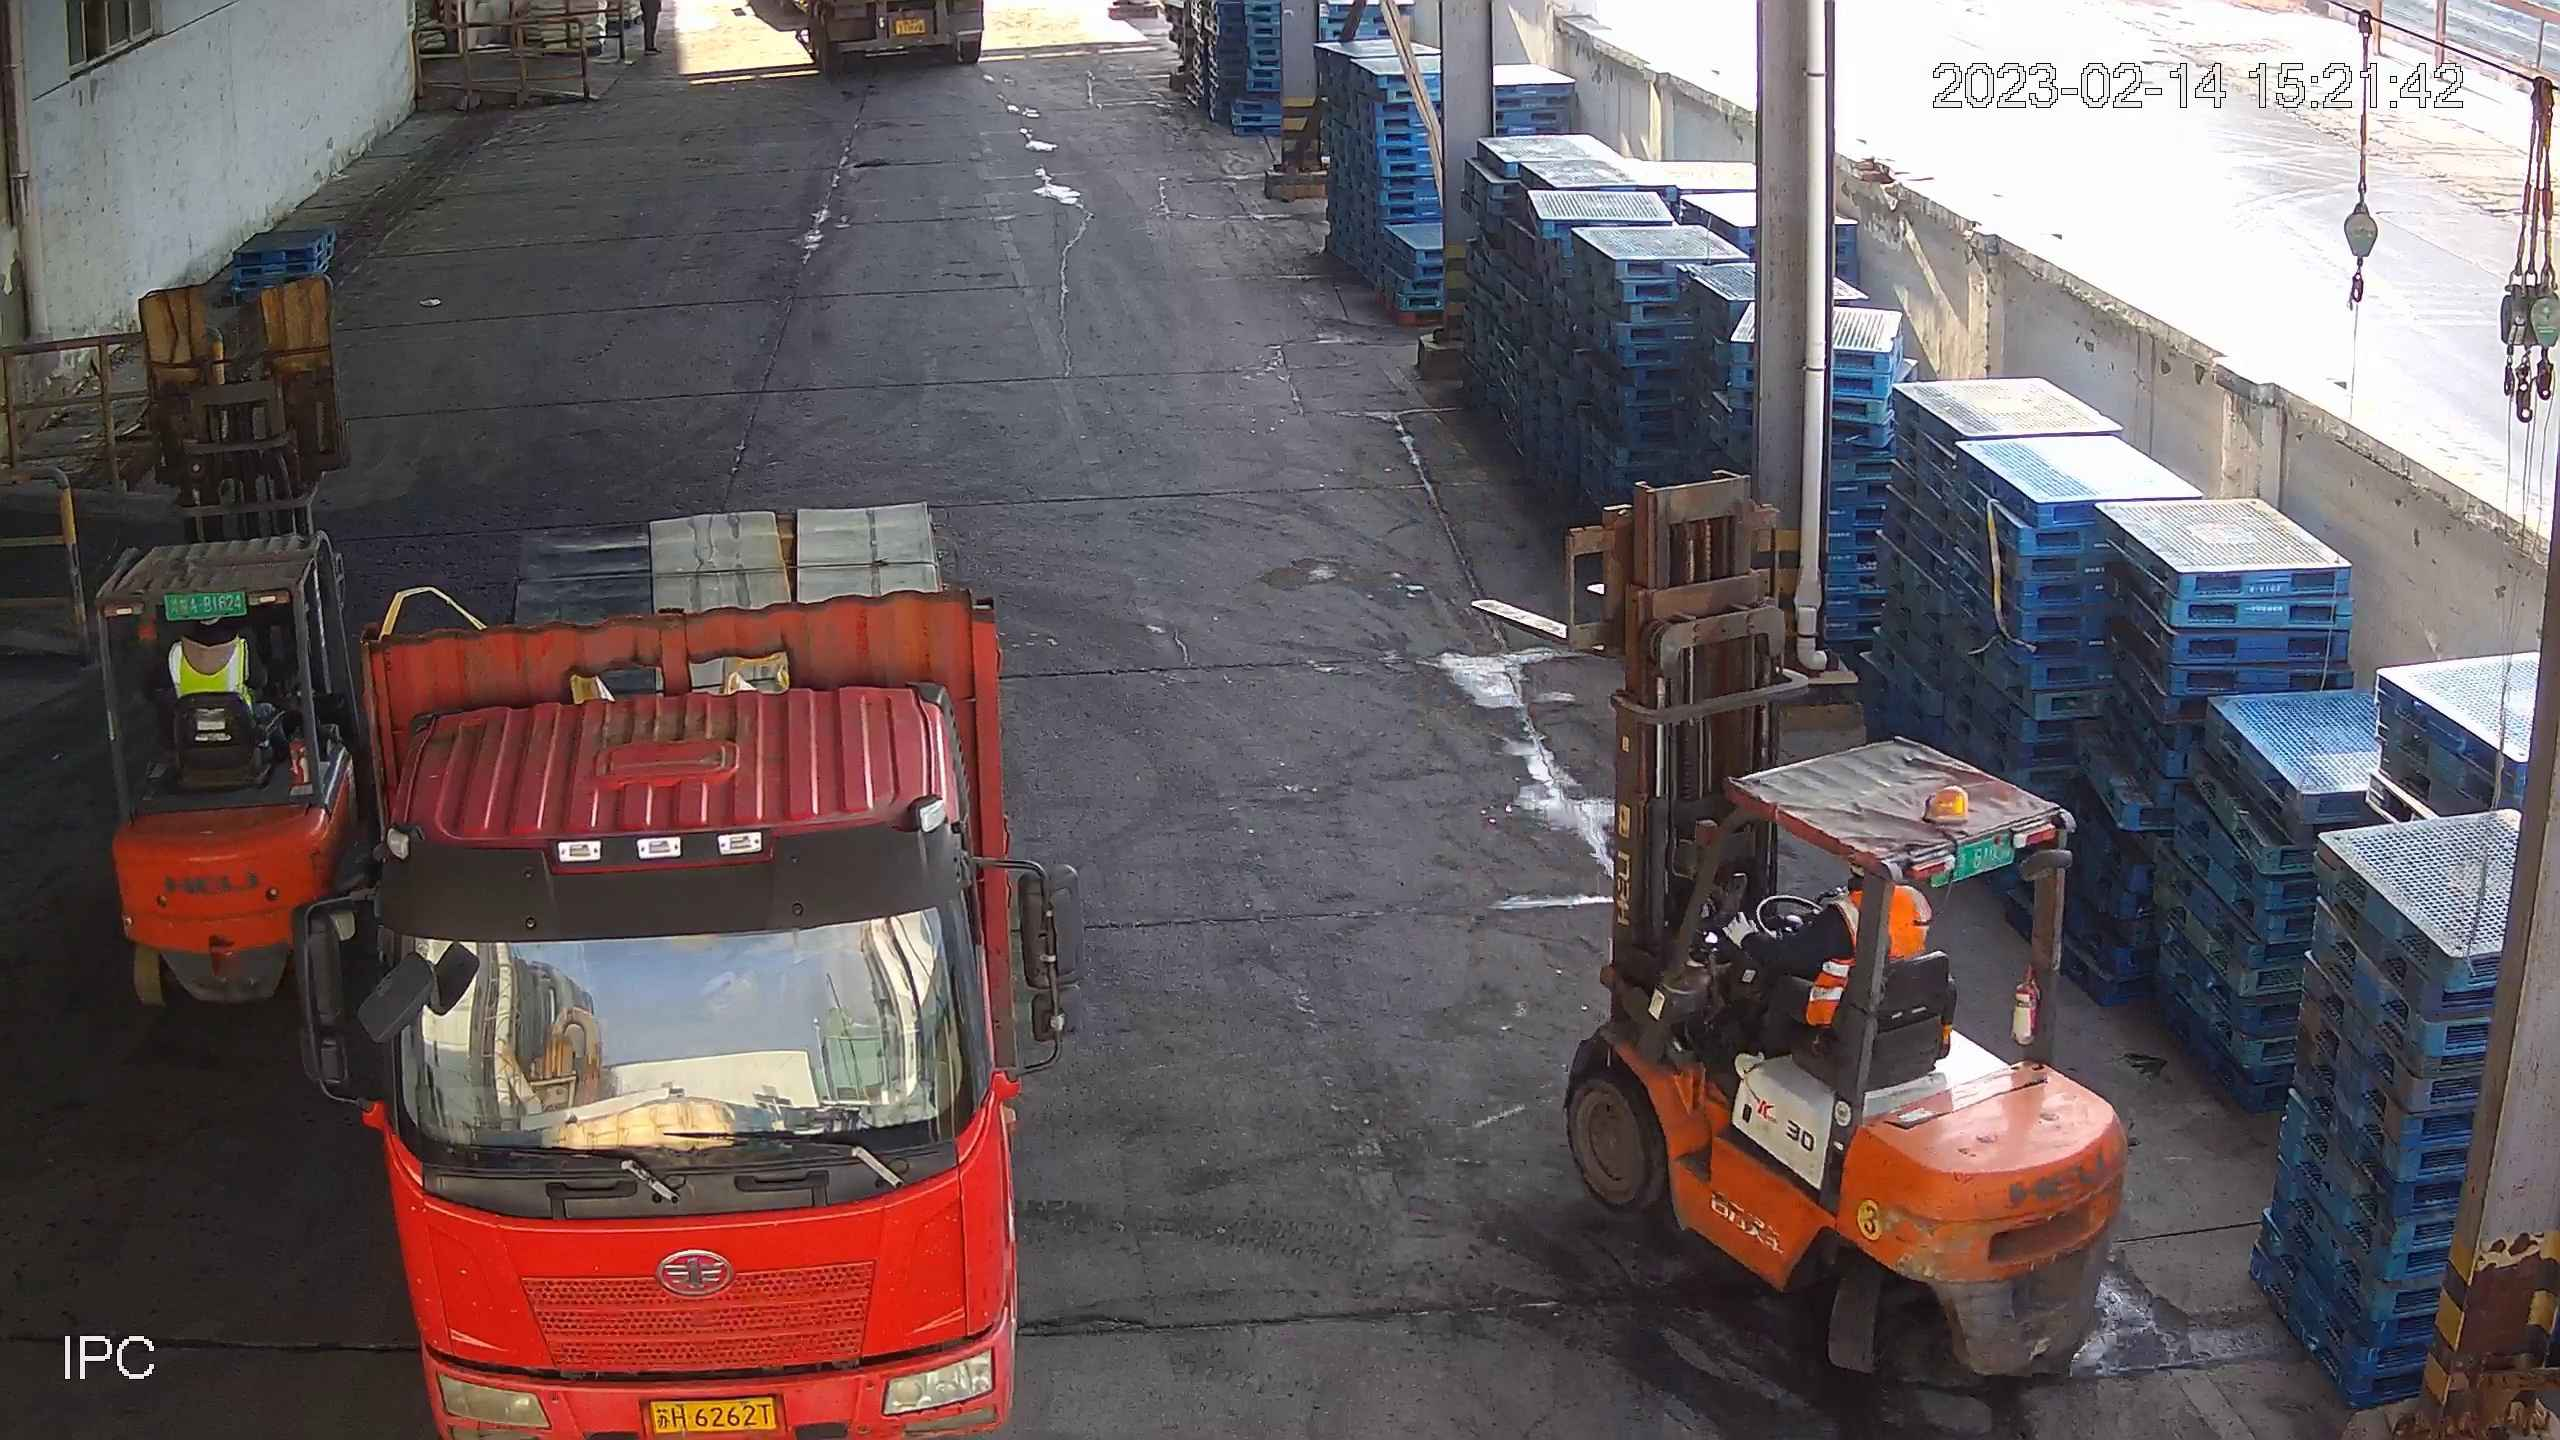people: (1722, 866, 1944, 1067)
truck: (295, 488, 1091, 1440)
